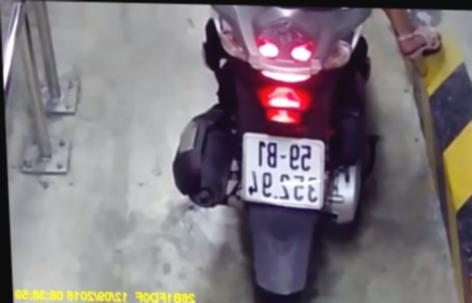License_Plate: (230, 130, 334, 210)
